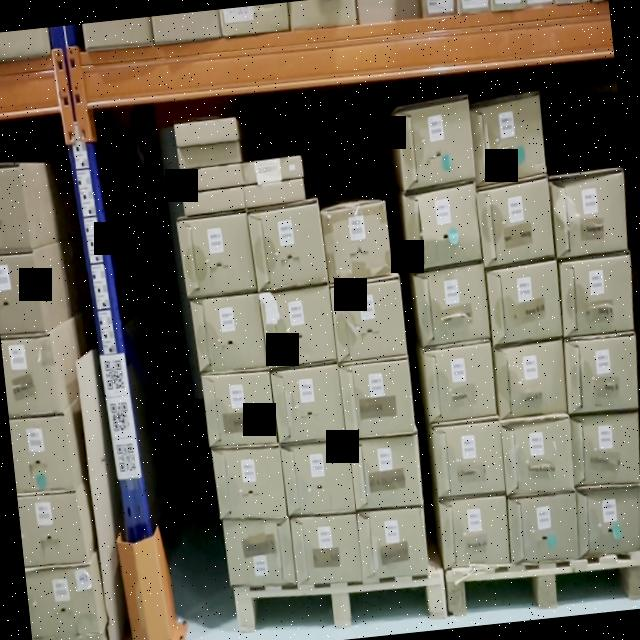box: (483, 260, 564, 346), (398, 102, 476, 183), (404, 190, 482, 270), (250, 209, 326, 291), (201, 369, 276, 452), (470, 99, 546, 180), (422, 338, 496, 419), (224, 512, 295, 596), (552, 175, 628, 253), (270, 362, 345, 441), (494, 340, 568, 420), (416, 267, 489, 347), (189, 295, 263, 373), (342, 355, 414, 434), (480, 185, 554, 261), (332, 280, 406, 356), (260, 288, 336, 362), (212, 447, 290, 518), (504, 418, 574, 496), (566, 334, 638, 409), (351, 434, 422, 509), (568, 412, 638, 487), (559, 264, 634, 334), (283, 446, 352, 519), (578, 481, 640, 562), (510, 492, 580, 562), (323, 206, 393, 276), (432, 424, 504, 492), (440, 492, 508, 562), (361, 512, 430, 580), (294, 519, 361, 587), (176, 142, 240, 169), (174, 118, 238, 144), (243, 178, 304, 204), (243, 157, 300, 184), (182, 191, 246, 214), (180, 167, 241, 188)
